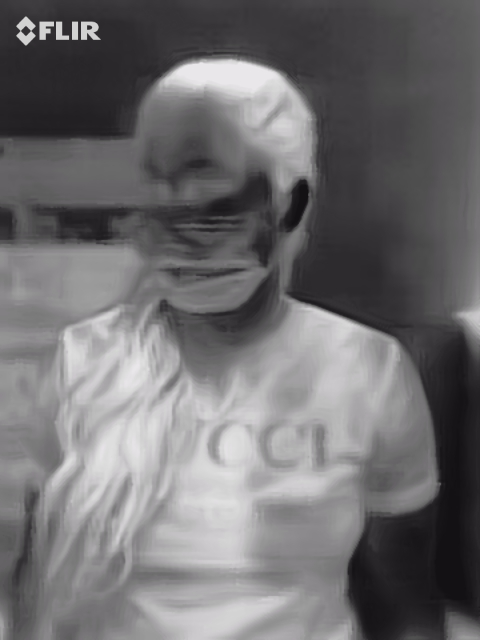head: (127, 53, 320, 315)
